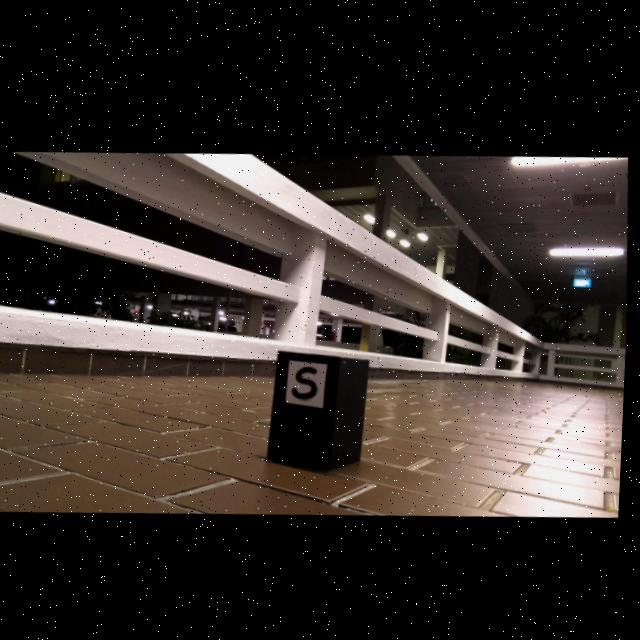S: (295, 364, 321, 396)
